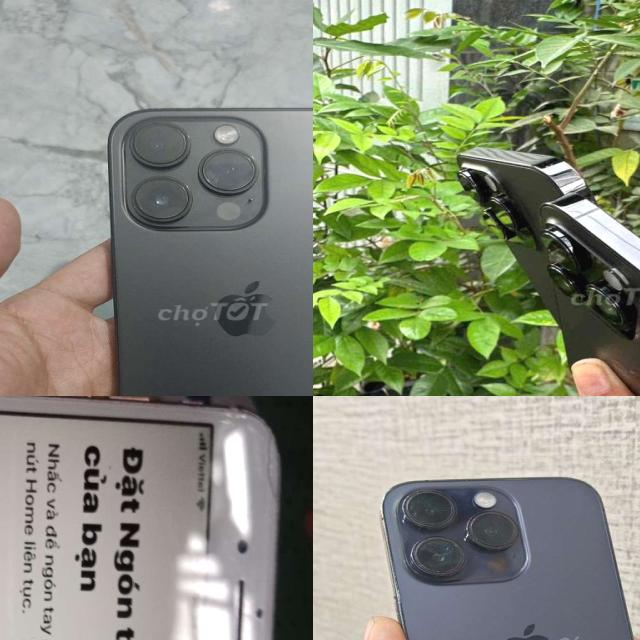gen_14: (89, 91, 313, 396), (367, 464, 640, 640), (533, 194, 640, 396)
gen_6: (0, 396, 286, 640)
physical_damage: (381, 575, 417, 640)
scratch: (399, 483, 474, 528), (404, 532, 466, 584), (262, 414, 290, 524), (464, 510, 532, 554)
